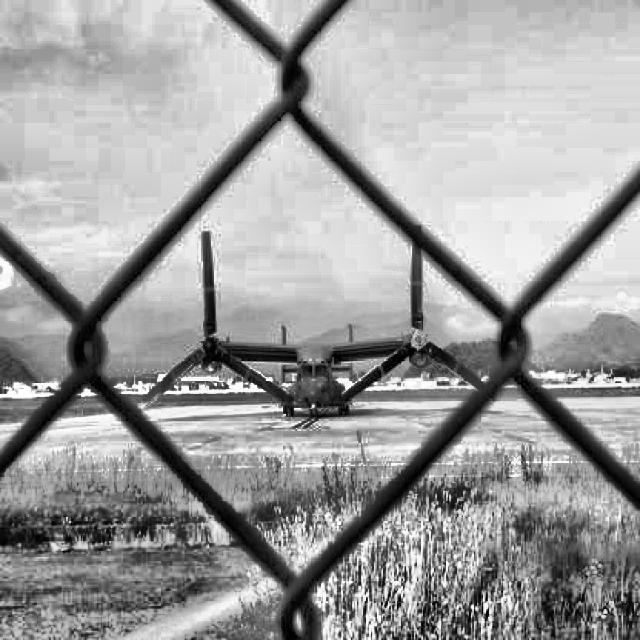V22: (132, 224, 498, 419)
